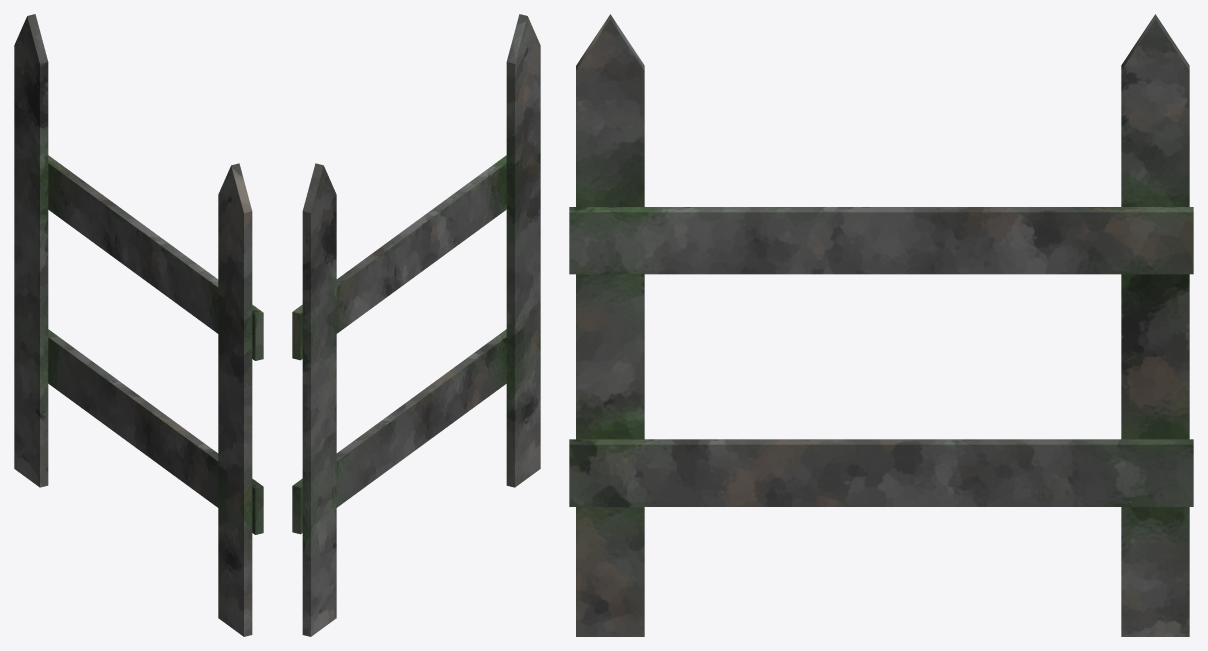
Rendered from Cercado.fbx.
3 views of the same model, side by side, from view 1: azimuth 30°, elevation 25°; view 2: azimuth 150°, elevation 25°; view 3: azimuth 270°, elevation 25° (orthographic). The views are drawn at different scales.
Parts seen in each view (by area): view 1: Cerca_Vertical1_Mesh, Cerca_Vertical2_Mesh, Cerca_Horizontal_Cima_Mesh, Cerca_Horizontal_Baixo_Mesh; view 2: Cerca_Vertical1_Mesh, Cerca_Vertical2_Mesh, Cerca_Horizontal_Baixo_Mesh, Cerca_Horizontal_Cima_Mesh; view 3: Cerca_Horizontal_Baixo_Mesh, Cerca_Horizontal_Cima_Mesh, Cerca_Vertical2_Mesh, Cerca_Vertical1_Mesh.
Boxes of the visible parts, bbox=[...] form: Cerca_Vertical1_Mesh: bbox=[14, 14, 48, 487]; Cerca_Vertical2_Mesh: bbox=[218, 163, 252, 636]; Cerca_Horizontal_Cima_Mesh: bbox=[48, 155, 263, 360]; Cerca_Horizontal_Baixo_Mesh: bbox=[48, 329, 263, 534]; Cerca_Vertical1_Mesh: bbox=[302, 163, 336, 636]; Cerca_Vertical2_Mesh: bbox=[506, 14, 540, 487]; Cerca_Horizontal_Baixo_Mesh: bbox=[292, 329, 506, 534]; Cerca_Horizontal_Cima_Mesh: bbox=[292, 155, 506, 360]; Cerca_Horizontal_Baixo_Mesh: bbox=[569, 439, 1193, 506]; Cerca_Horizontal_Cima_Mesh: bbox=[569, 207, 1193, 274]; Cerca_Vertical2_Mesh: bbox=[576, 14, 644, 636]; Cerca_Vertical1_Mesh: bbox=[1121, 14, 1189, 636].
Size of the model in its own units: 4.5 by 117 by 107.
Materials: 2 (2 with a texture image).
